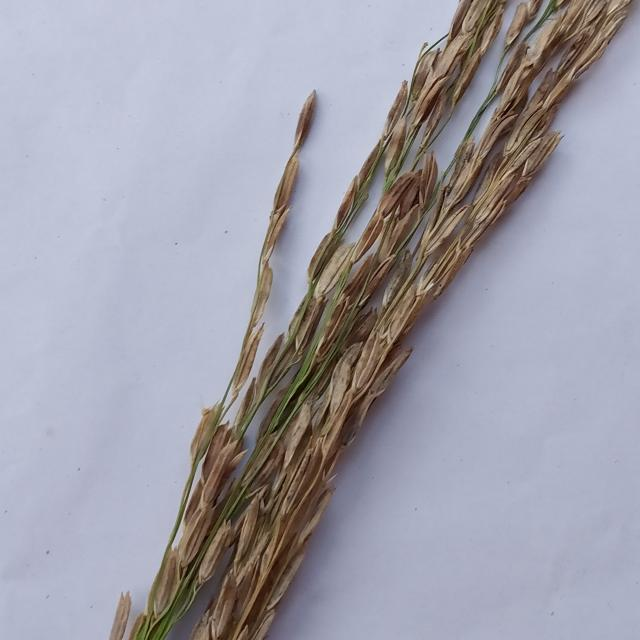Neck_Blast: (104, 0, 638, 640)
